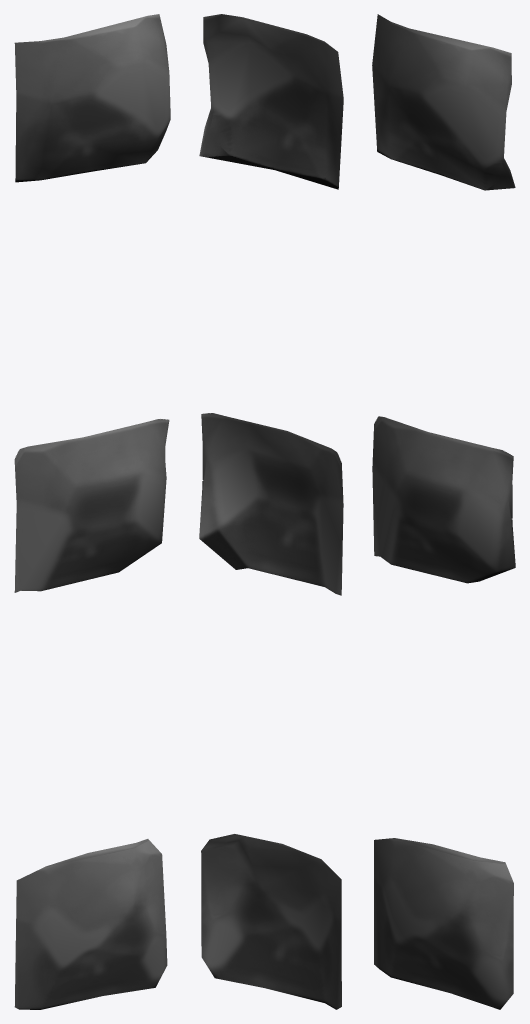
File: overthrow_throne_desert_gem.fbx
3 views of the same model, side by side, from view 1: azimuth 30°, elevation 25°; view 2: azimuth 150°, elevation 25°; view 3: azimuth 330°, elevation 25° (orthographic).
Parts seen in each view (by area): view 1: throne_desert_gems; view 2: throne_desert_gems; view 3: throne_desert_gems.
Part boxes in pixels (x1,y1,x2,y2): throne_desert_gems: [14, 14, 170, 1009]; throne_desert_gems: [199, 14, 343, 1009]; throne_desert_gems: [372, 14, 515, 1009].
Size of the model in its own units: 21.45 by 134 by 5.03.
1 material, 1 textured.
